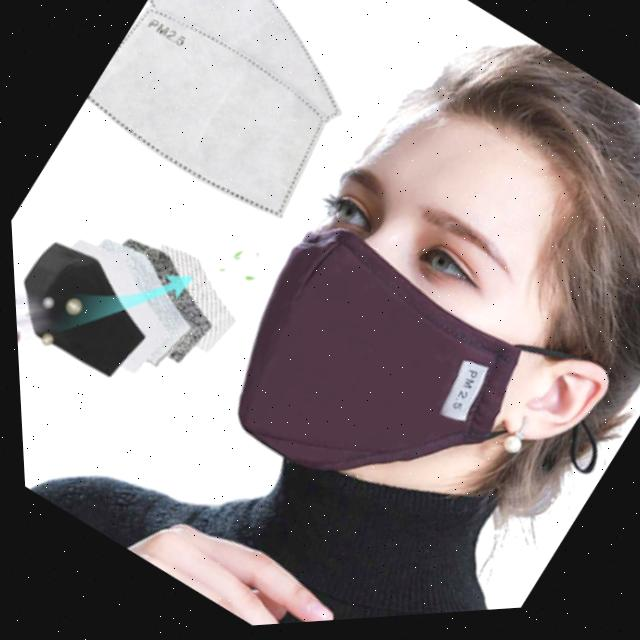Mask: (198, 202, 597, 588)
